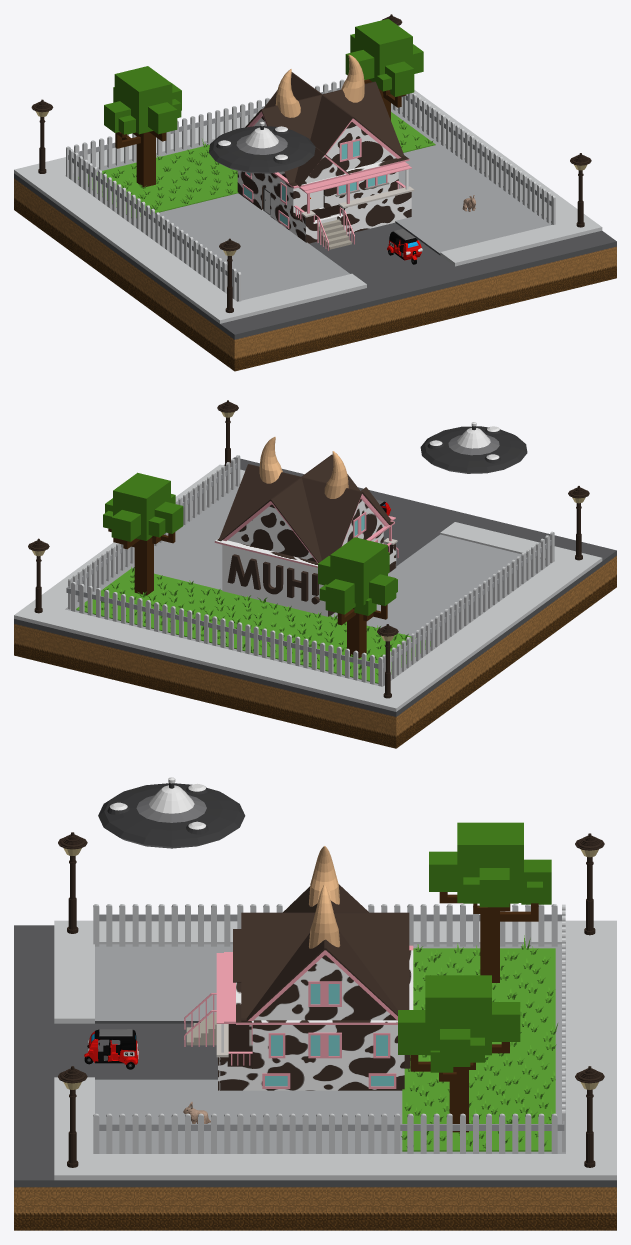
3 renders of one model, top to bottom at view 1: azimuth 30°, elevation 25°; view 2: azimuth 150°, elevation 25°; view 3: azimuth 270°, elevation 25°, orthographic. The views are drawn at different scales.
Visible parts, largest first — view 1: Cube.004, Cube.1242, OBJRANDOM_UFO, VEHICLES_TUC_TUC; view 2: Cube.004, Cube.1242, OBJRANDOM_UFO; view 3: Cube.004, Cube.1242, OBJRANDOM_UFO, VEHICLES_TUC_TUC.
Boxes of the visible parts, box(x1,y1,x2,y2) form: Cube.004: box(14, 14, 616, 371); Cube.1242: box(237, 54, 414, 250); OBJRANDOM_UFO: box(208, 121, 315, 173); VEHICLES_TUC_TUC: box(387, 229, 422, 264); Cube.004: box(14, 400, 616, 748); Cube.1242: box(214, 436, 398, 616); OBJRANDOM_UFO: box(420, 422, 527, 473); Cube.004: box(14, 822, 616, 1230); Cube.1242: box(184, 846, 413, 1090); OBJRANDOM_UFO: box(98, 777, 245, 848); VEHICLES_TUC_TUC: box(84, 1029, 138, 1069).
Size of the model in its own units: 4000 by 2094 by 4000.
Materials: 40 (3 with a texture image).
